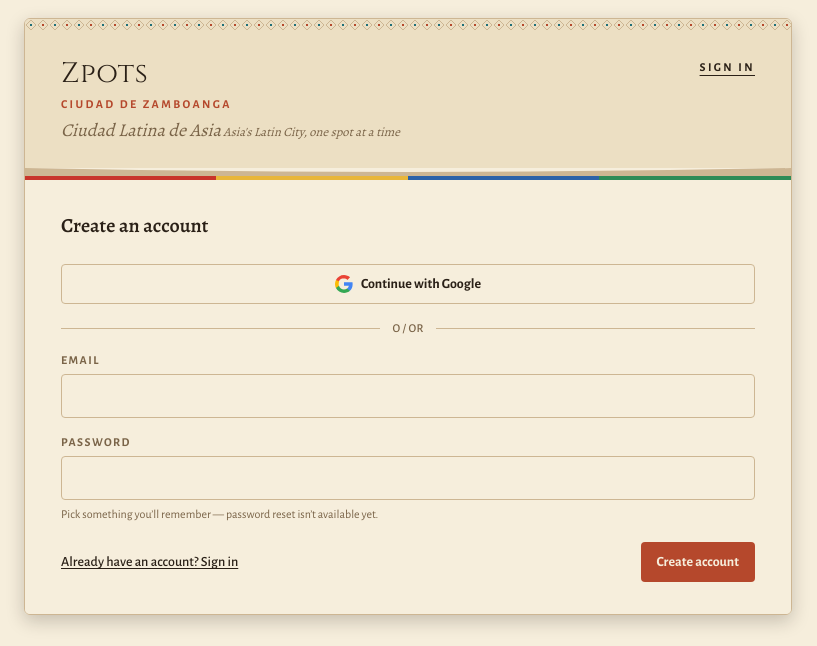
Login page -- sign-up › needsEmailConfirmation: true renders the confirm-email state instead of redirecting
Type "new@example.com" into the field labelled "Email" at (408, 396), box [61,374,755,418]
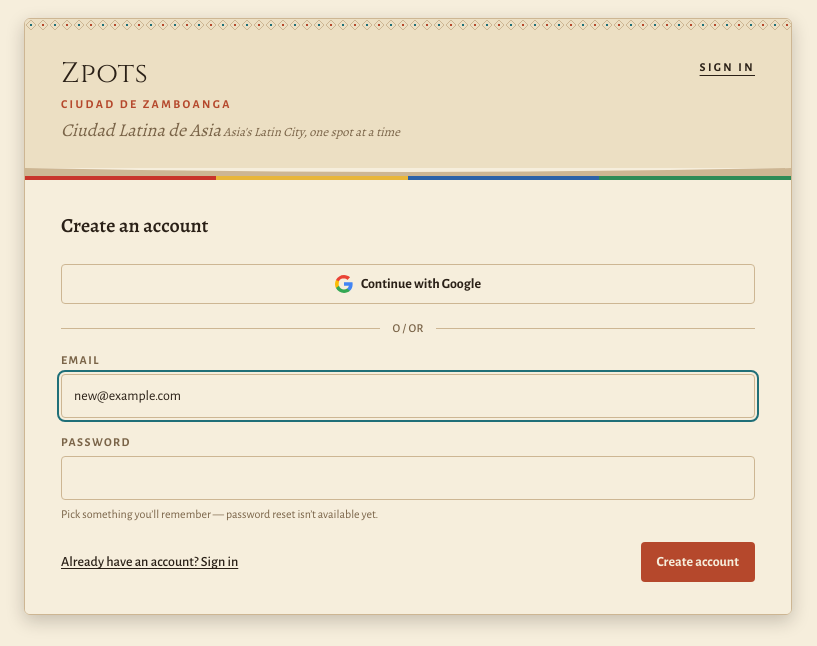
Type "password1" into the password field labelled "Password" at (408, 478), box [61,456,755,500]
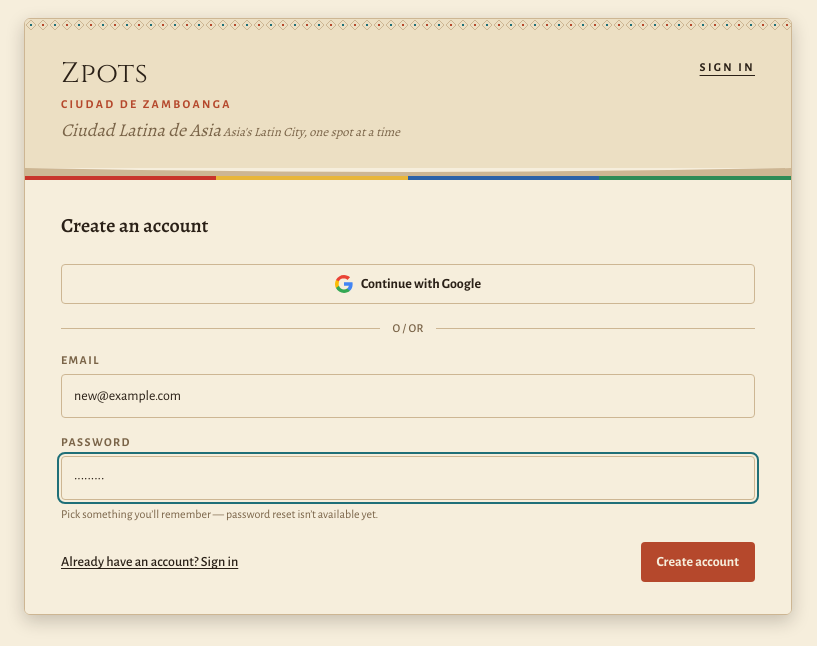
Click the button "Create account" at (698, 562), box [641,542,755,582]
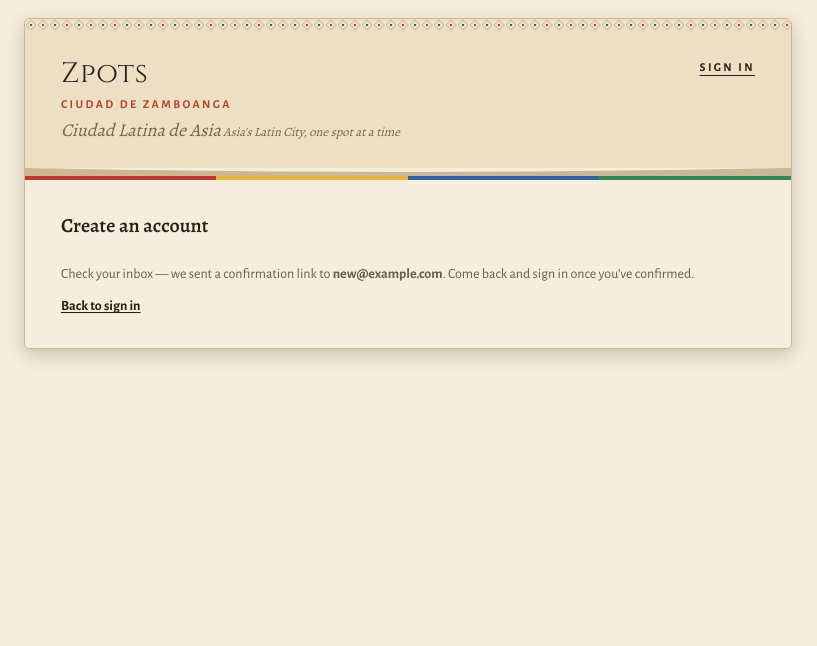
Check: the text "Check your inbox" is shown, box [61,267,333,281]
